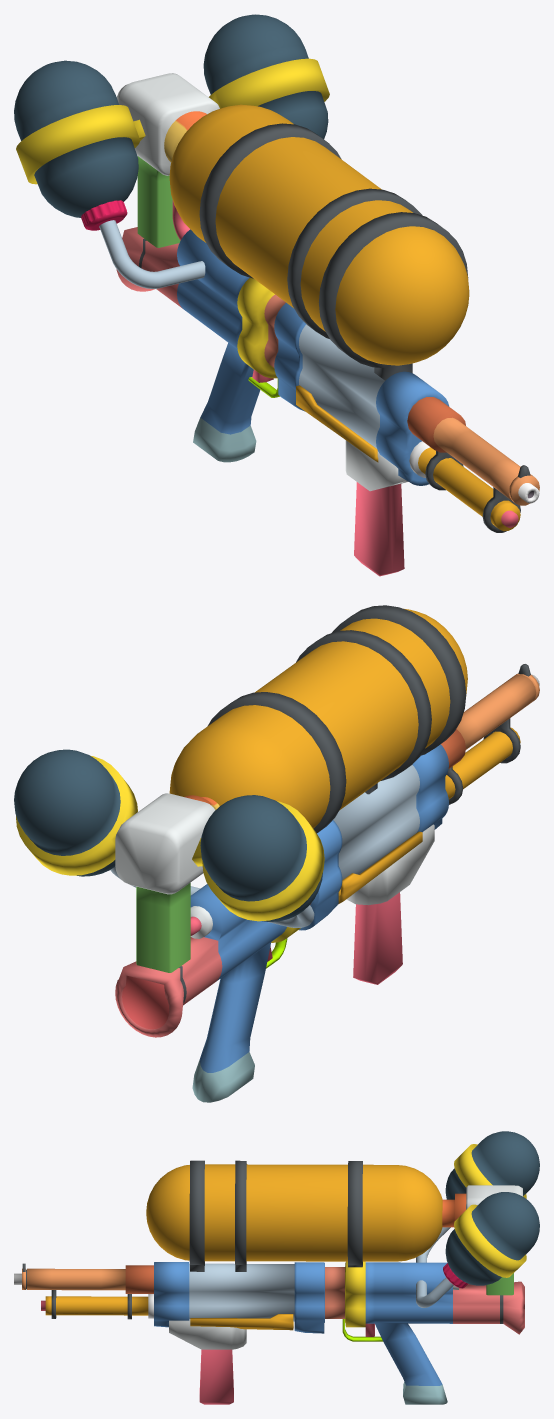
Rendered from Watergun18.fbx.
3 renders of one model, top to bottom at view 1: azimuth 30°, elevation 25°; view 2: azimuth 150°, elevation 25°; view 3: azimuth 270°, elevation 25°, orthographic. The views are drawn at different scales.
Visible parts, largest first — view 1: Watergun18; view 2: Watergun18; view 3: Watergun18.
Boxes of the visible parts, box(x1,y1,x2,y2) form: Watergun18: box(14, 14, 539, 576); Watergun18: box(14, 605, 539, 1102); Watergun18: box(14, 1131, 539, 1404).
Size of the model in its own units: 0.182 by 0.2149 by 0.4306.
